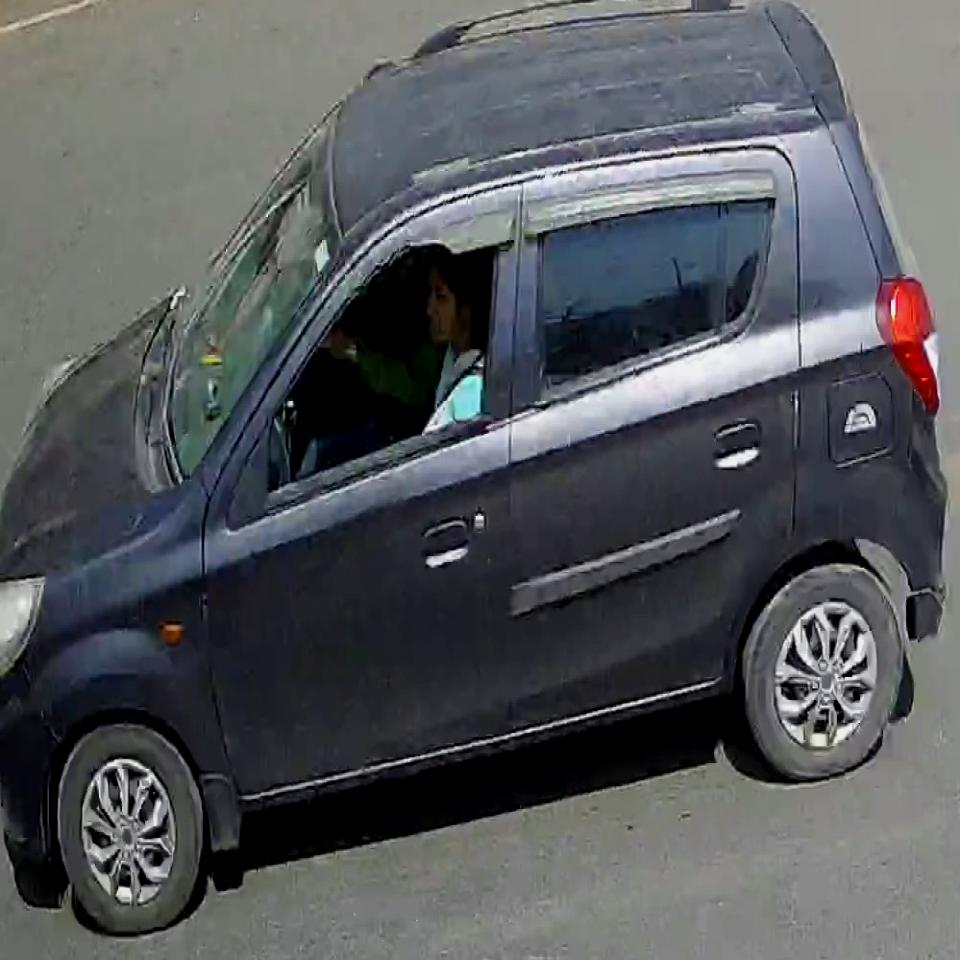tail_light: (876, 273, 946, 418)
